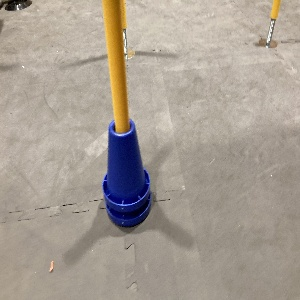Blue_2: (101, 117, 151, 228)
